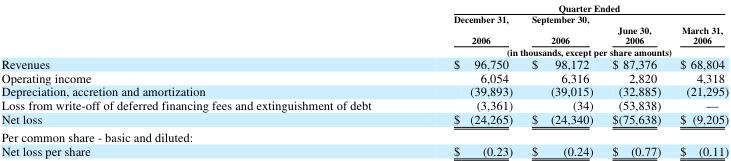table: (0, 1, 728, 158)
table column: (0, 1, 411, 158), (411, 1, 521, 158), (521, 1, 602, 158), (602, 1, 669, 158), (669, 1, 728, 158)
table column header: (0, 1, 728, 56)
table projected row header: (0, 127, 728, 142)
table row: (0, 13, 728, 45), (0, 111, 728, 127), (0, 142, 728, 158), (0, 127, 728, 142), (0, 69, 728, 83), (0, 83, 728, 97), (0, 97, 728, 111), (0, 56, 728, 69), (0, 1, 728, 13), (0, 45, 728, 56)
table spanning cell: (411, 1, 728, 13), (411, 45, 728, 56)
